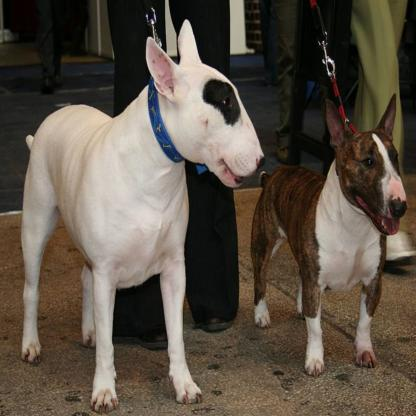Bull Terrier: (34, 32, 272, 390), (254, 63, 413, 370)
